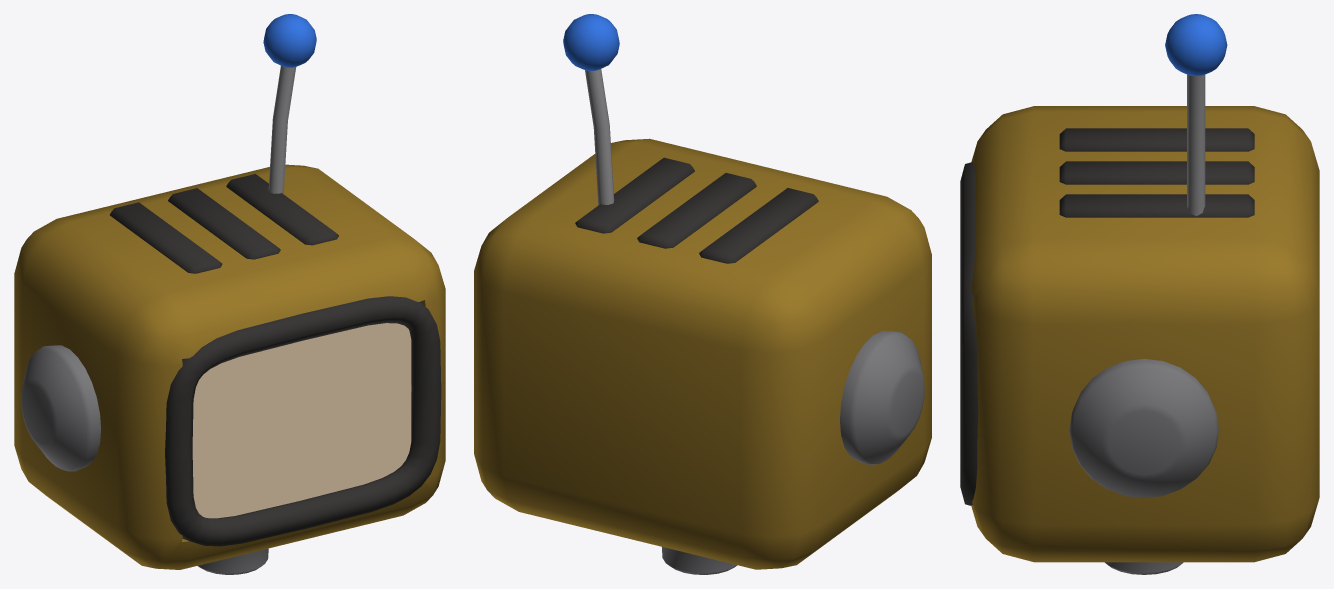
File: Kit_Head_Bot.glb
3 renders of one model, left to right at view 1: azimuth 30°, elevation 25°; view 2: azimuth 150°, elevation 25°; view 3: azimuth 270°, elevation 25°, orthographic. The views are drawn at different scales.
Visible parts, largest first — view 1: Kit_Head_Bot, FacePlate; view 2: Kit_Head_Bot; view 3: Kit_Head_Bot.
Boxes of the visible parts, x1,y1,x2,y2 form: Kit_Head_Bot: [14, 14, 445, 574]; FacePlate: [192, 323, 411, 518]; Kit_Head_Bot: [474, 14, 931, 574]; Kit_Head_Bot: [960, 14, 1319, 574].
Size of the model in its own units: 0.396 by 0.499 by 0.2765.
